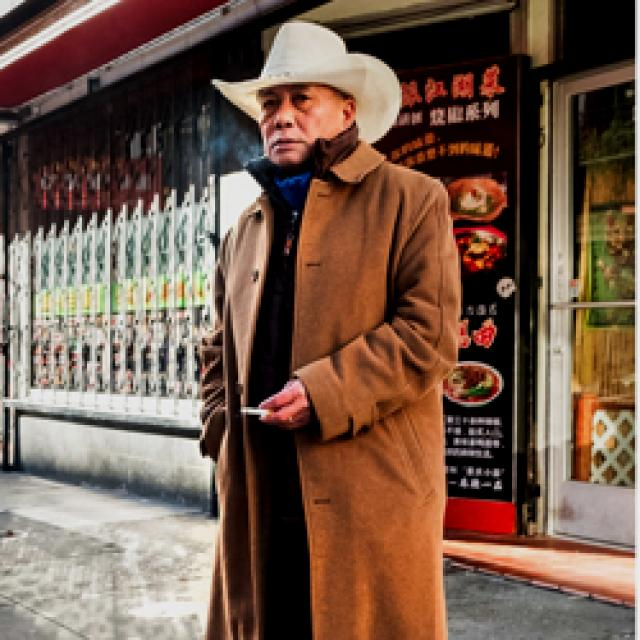Smooking: (231, 399, 273, 422)
